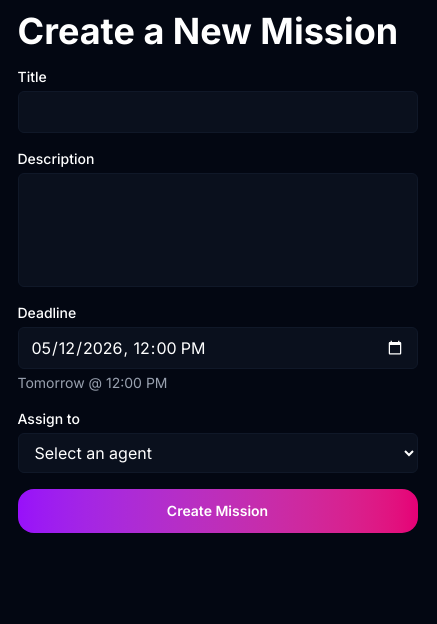
CreateMissionForm › shows validation errors when submitting an empty form
The width and height of the screenshot is (437, 624).
Clear the field labelled "Deadline": (218, 348) left=18, top=327, right=418, bottom=369
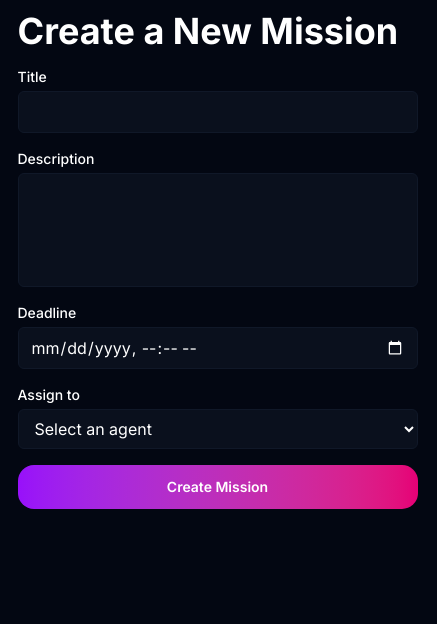
Click the button "Create Mission": click(218, 487) left=18, top=465, right=418, bottom=509
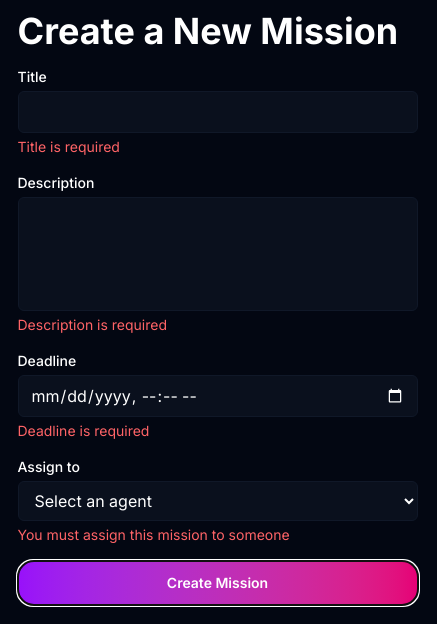
Now the text "Title is required" is shown, box left=18, top=138, right=120, bottom=155
Now the text "Description is required" is shown, box left=18, top=316, right=167, bottom=333
Now the text "Deadline is required" is shown, box left=18, top=422, right=149, bottom=439
